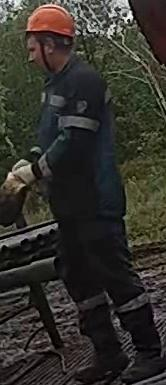gloves: (0, 158, 36, 226)
helmet: (23, 3, 75, 38)
vest: (31, 54, 126, 220)
